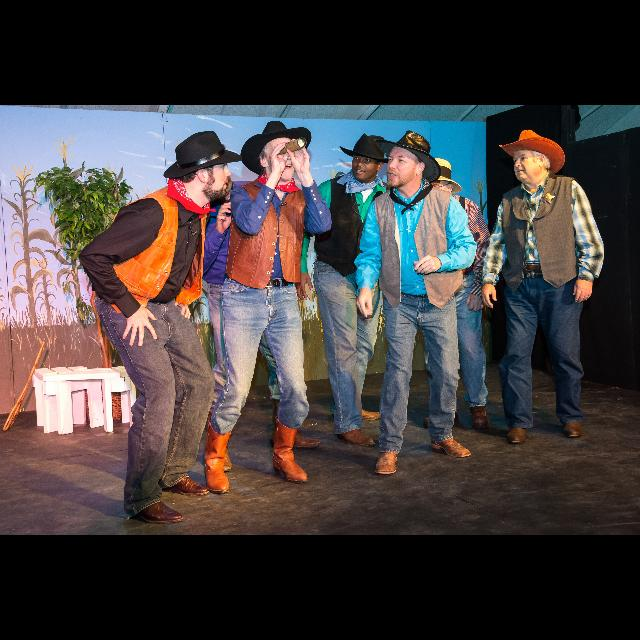head: (178, 141, 232, 199), (258, 131, 298, 181), (386, 142, 426, 188), (512, 140, 548, 184), (352, 148, 386, 182), (201, 157, 233, 193), (424, 170, 454, 203)
person: (76, 129, 244, 526), (201, 119, 333, 495), (354, 130, 480, 478), (196, 145, 326, 473), (479, 128, 606, 448), (293, 133, 402, 450), (405, 157, 497, 433)
